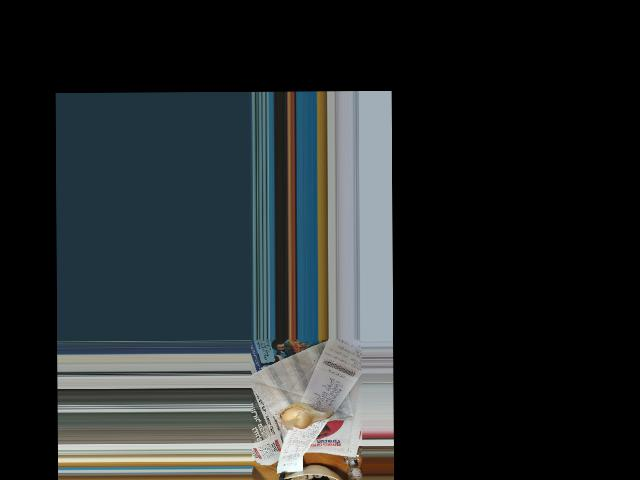onion: (280, 403, 323, 425)
